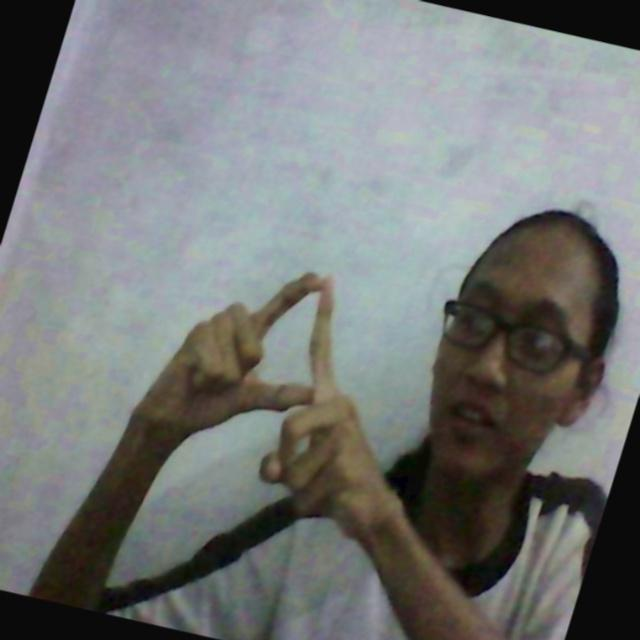D: (218, 265, 361, 462)
